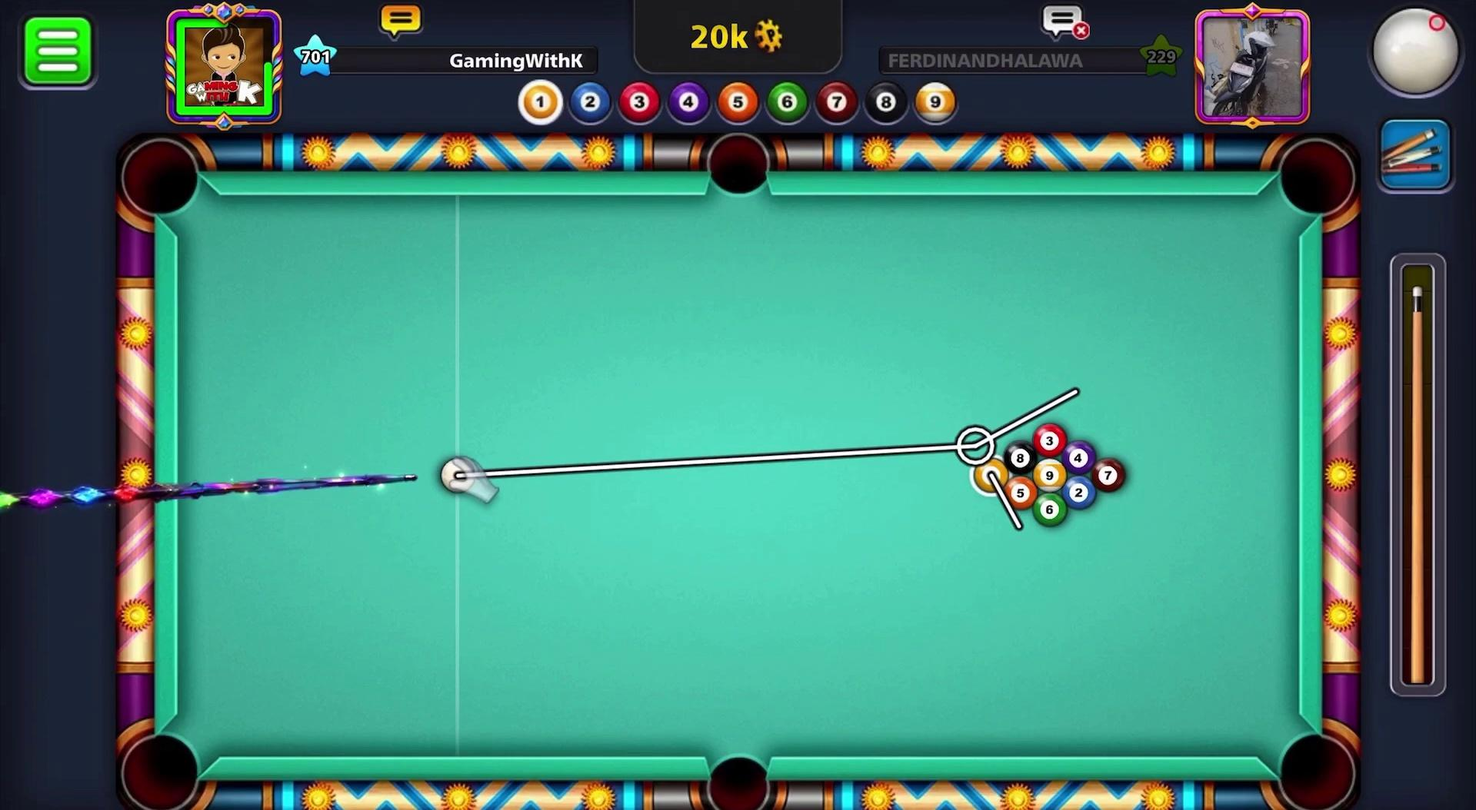Ball: (1001, 473, 1042, 516), (970, 454, 1010, 497), (1089, 454, 1132, 494), (1062, 473, 1102, 514), (1031, 419, 1068, 463), (1027, 457, 1071, 494), (998, 438, 1035, 476), (1031, 492, 1068, 529), (1060, 437, 1096, 473)
Force: (1386, 253, 1453, 705)
Guideline: (459, 380, 1088, 539)
Hole: (107, 128, 214, 231), (1268, 130, 1366, 231), (1264, 715, 1364, 809), (111, 724, 208, 809), (686, 736, 785, 809), (701, 124, 778, 204)
Play_Area: (177, 194, 1298, 761)
Spin: (1343, 0, 1474, 114)
White: (428, 452, 481, 497)
